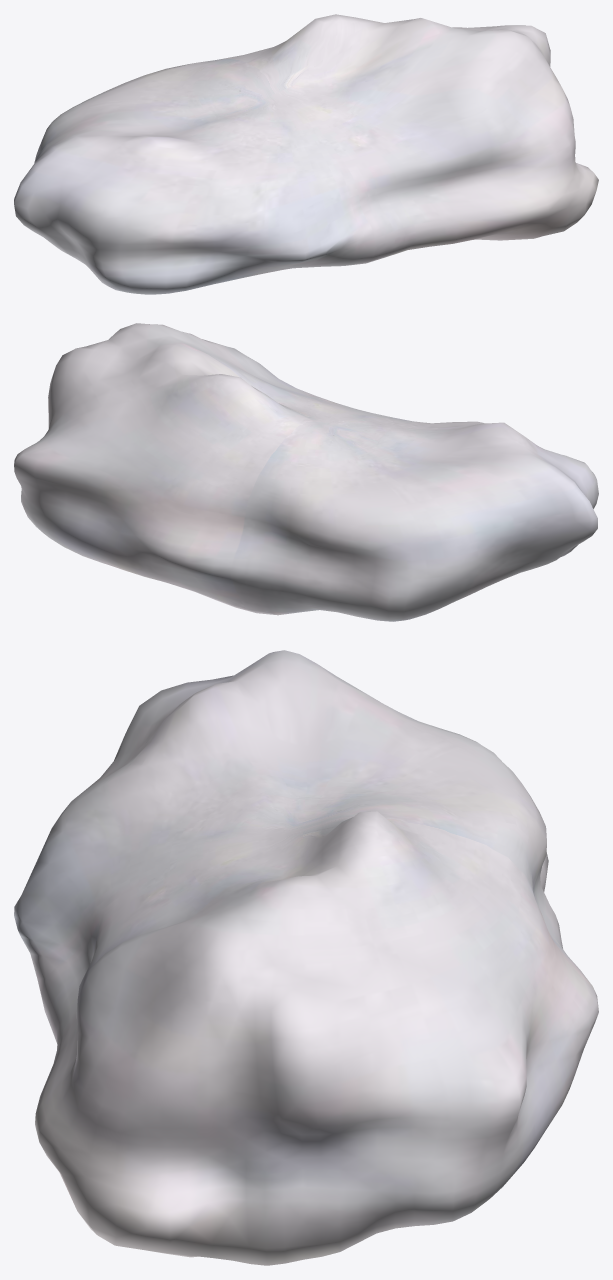
The model's file is cloud1.FBX.
3 views of the same model, one above another, from view 1: azimuth 30°, elevation 25°; view 2: azimuth 150°, elevation 25°; view 3: azimuth 270°, elevation 25° (orthographic). The views are drawn at different scales.
Visible parts, largest first — view 1: Box001; view 2: Box001; view 3: Box001.
Boxes of the visible parts, x1,y1,x2,y2 form: Box001: (14, 14, 598, 294); Box001: (14, 323, 598, 621); Box001: (14, 650, 598, 1265).
Bounding box in the file's own units: 100 × 36.26 × 58.56.
Materials: 1 (1 with a texture image).
